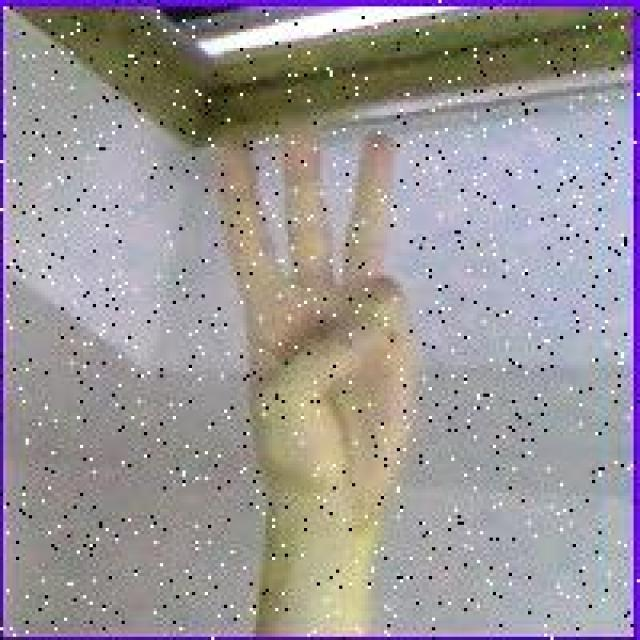W: (216, 112, 424, 525)
